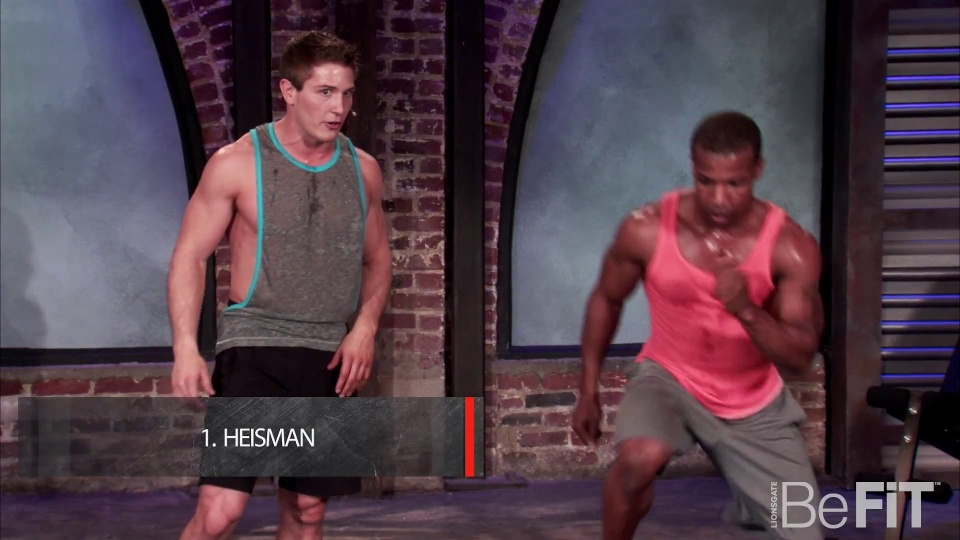person: (576, 110, 836, 535), (166, 24, 381, 519)
